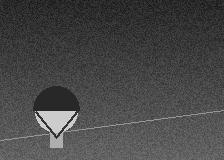helmet: (33, 86, 79, 137)
